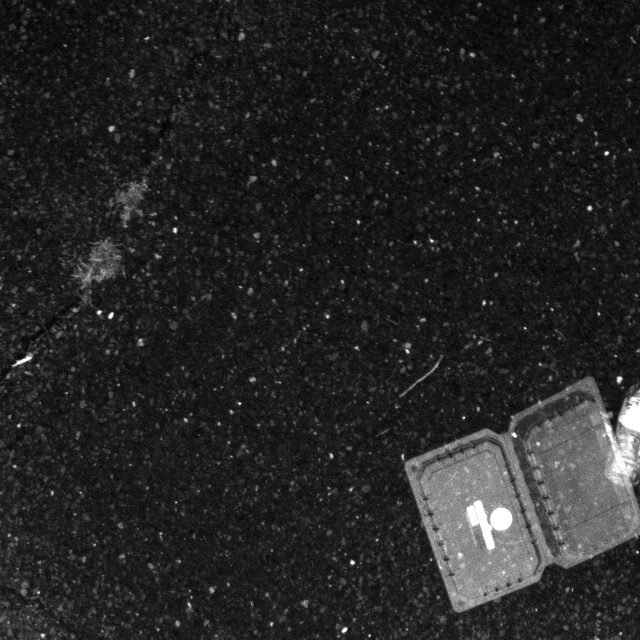container: (404, 384, 640, 617)
